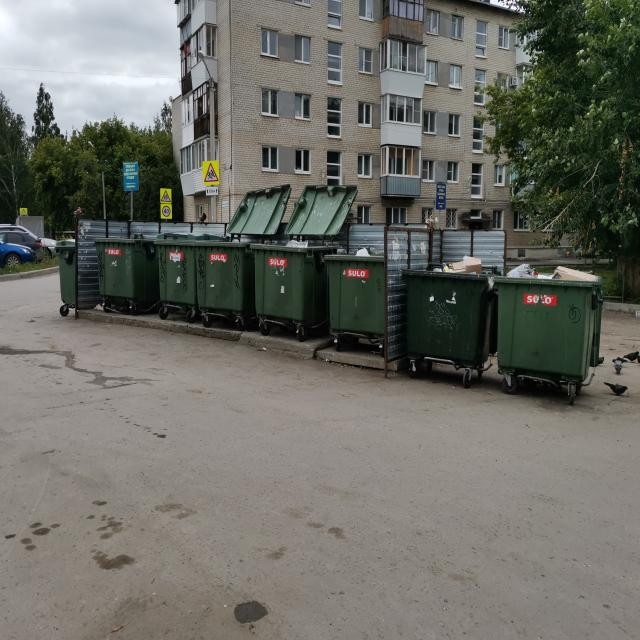bin: (494, 266, 599, 402), (398, 260, 492, 387), (321, 246, 392, 352), (248, 234, 318, 340), (192, 232, 252, 336), (94, 226, 145, 320), (148, 233, 194, 323)
